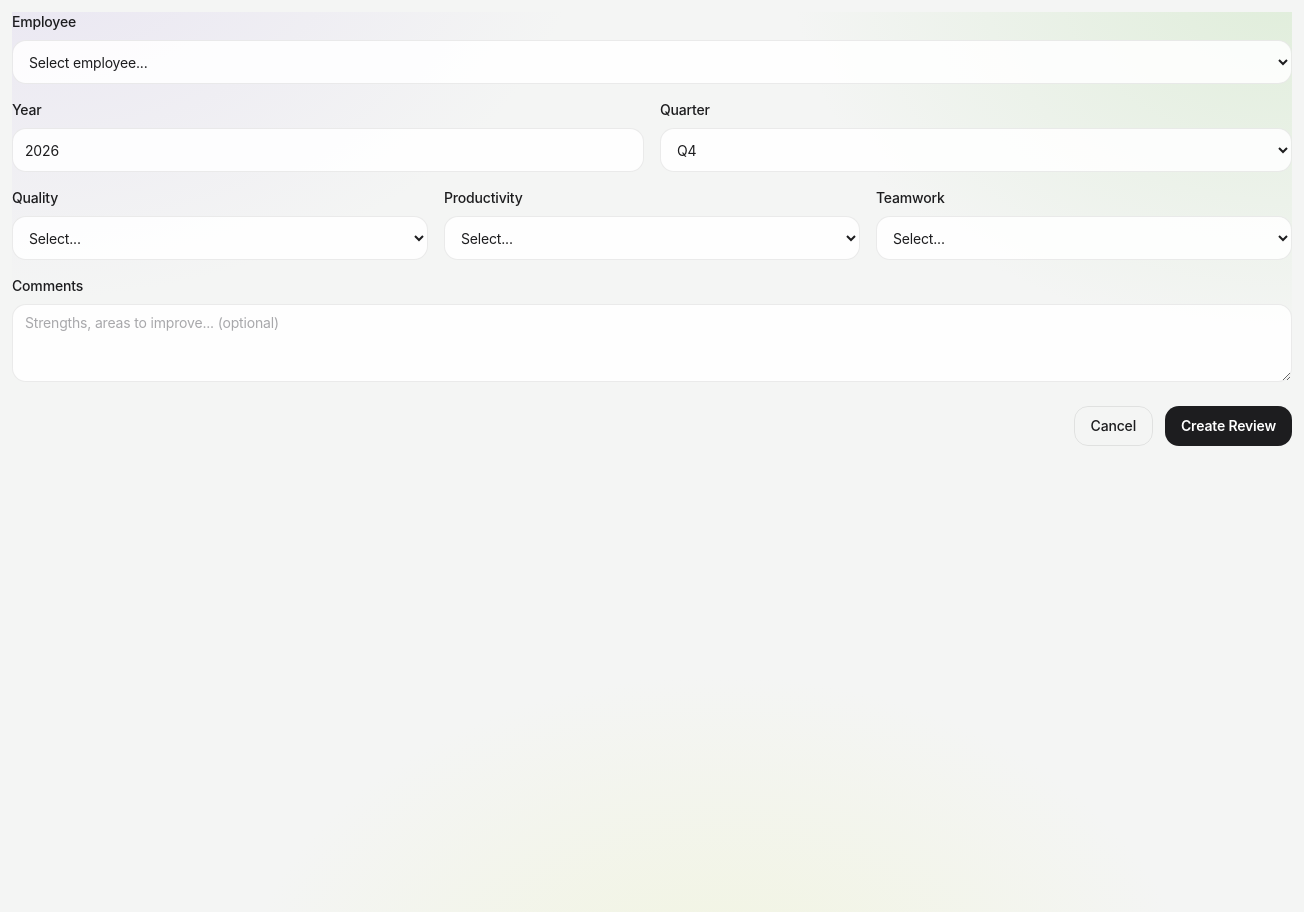
Test case: ReviewForm › requires an employee and all three scores
Step 1. Click the button "Create Review" → (1228, 426), box 1165,406 -> 1292,446
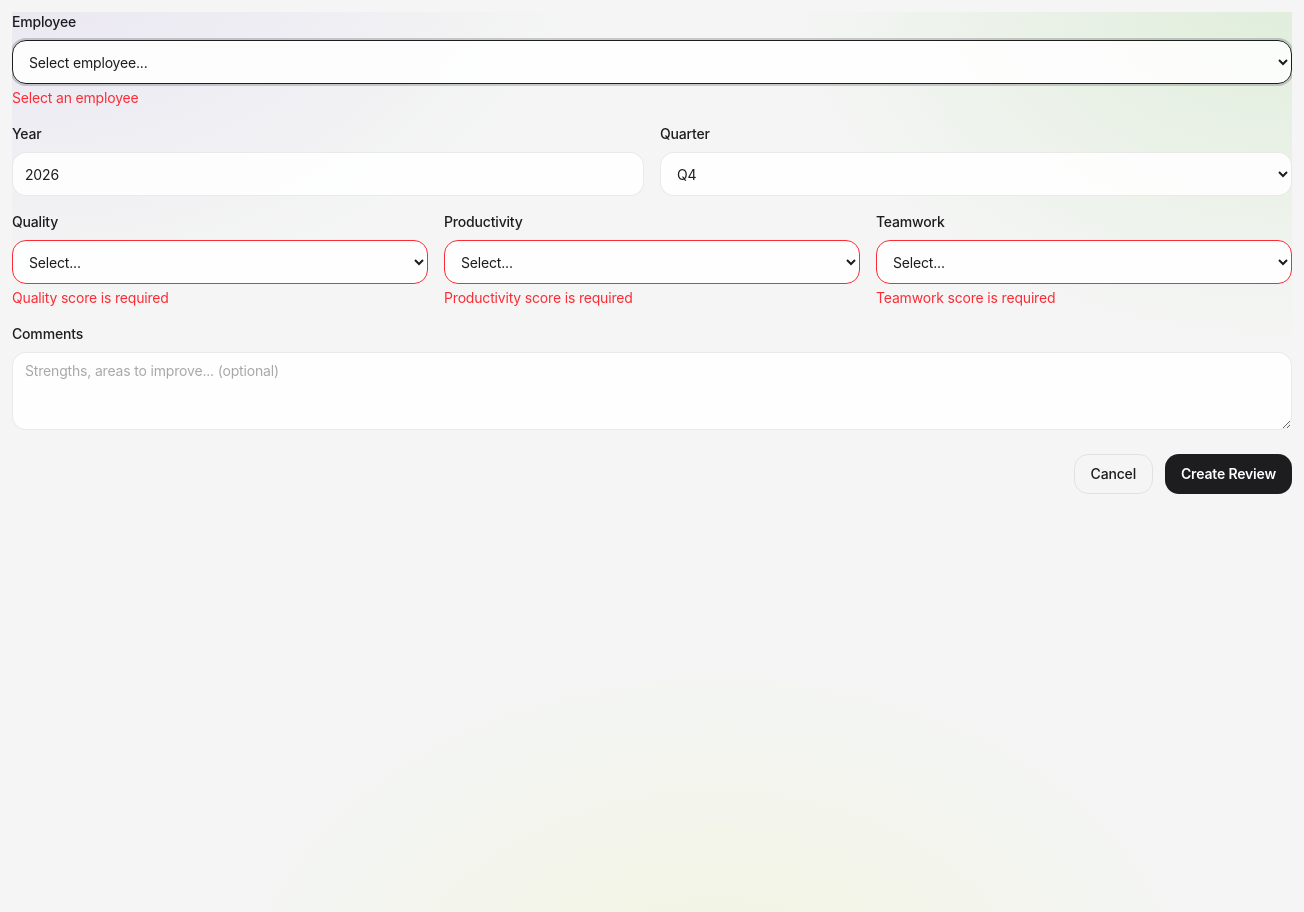
Now the text "Select an employee" is shown, box 12,89 -> 138,106
Now the text "Quality score is required" is shown, box 12,289 -> 169,306
Now the text "Productivity score is required" is shown, box 444,289 -> 633,306
